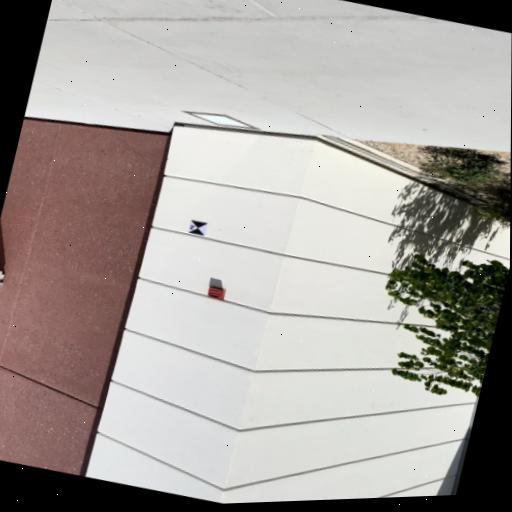target2: (187, 219, 208, 237)
